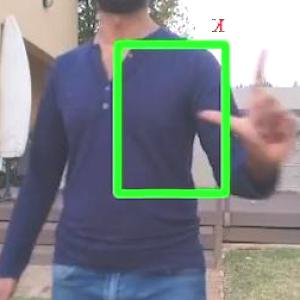land_hand: (195, 37, 299, 175)
